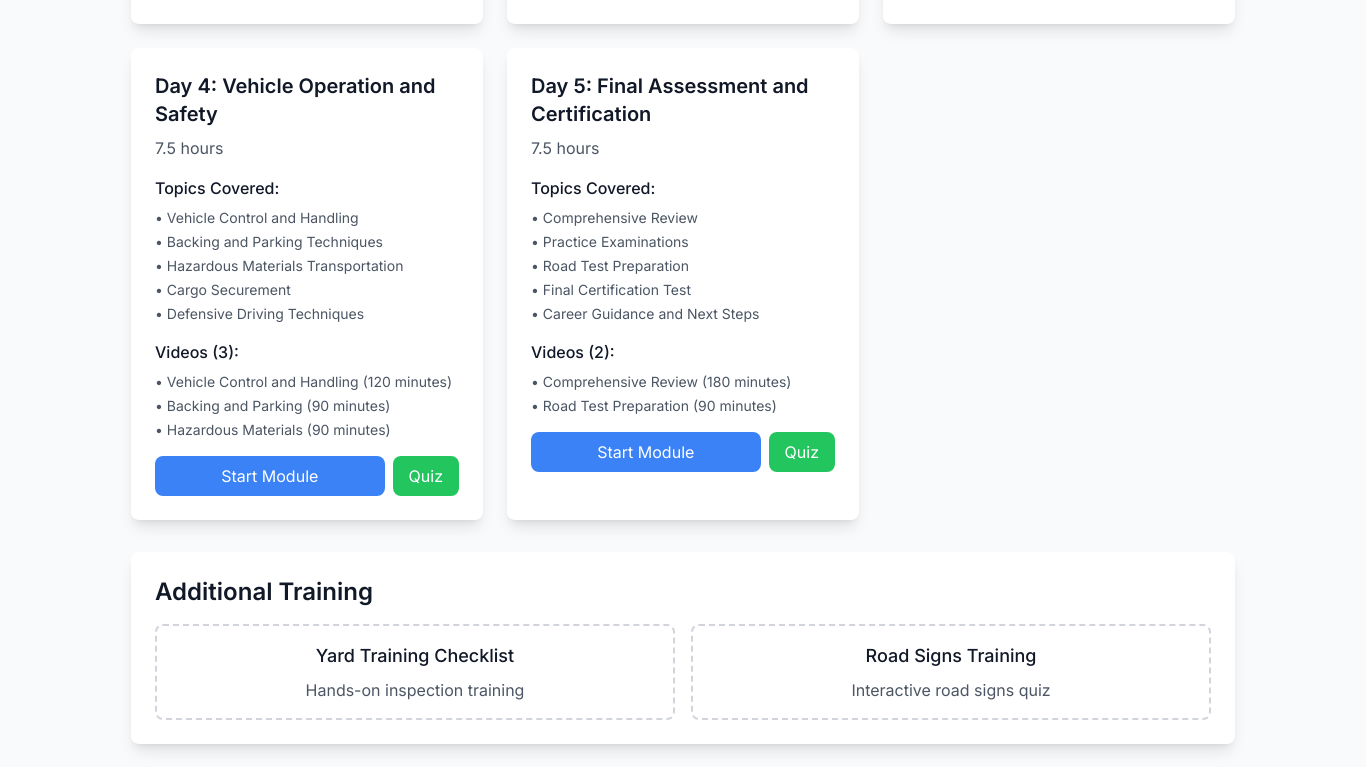
Scenario: CDLTrainingModule › allows navigation back from yard training
(page scrolled)
Click the button "Yard Training Checklist Hands-on inspection training" at (415, 656), box [155,624,675,720]
(page scrolled)
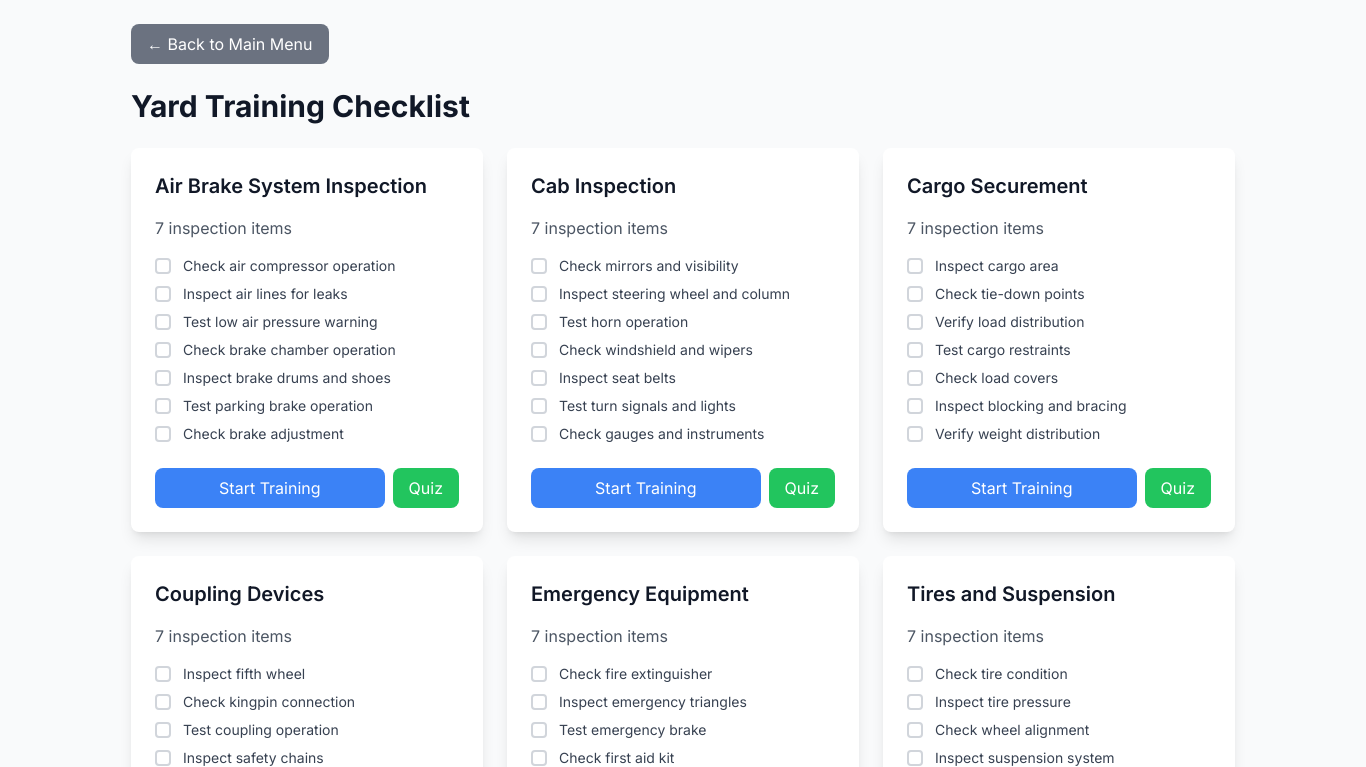
Click the button "← Back to Main Menu" at (230, 44), box [131,24,328,64]
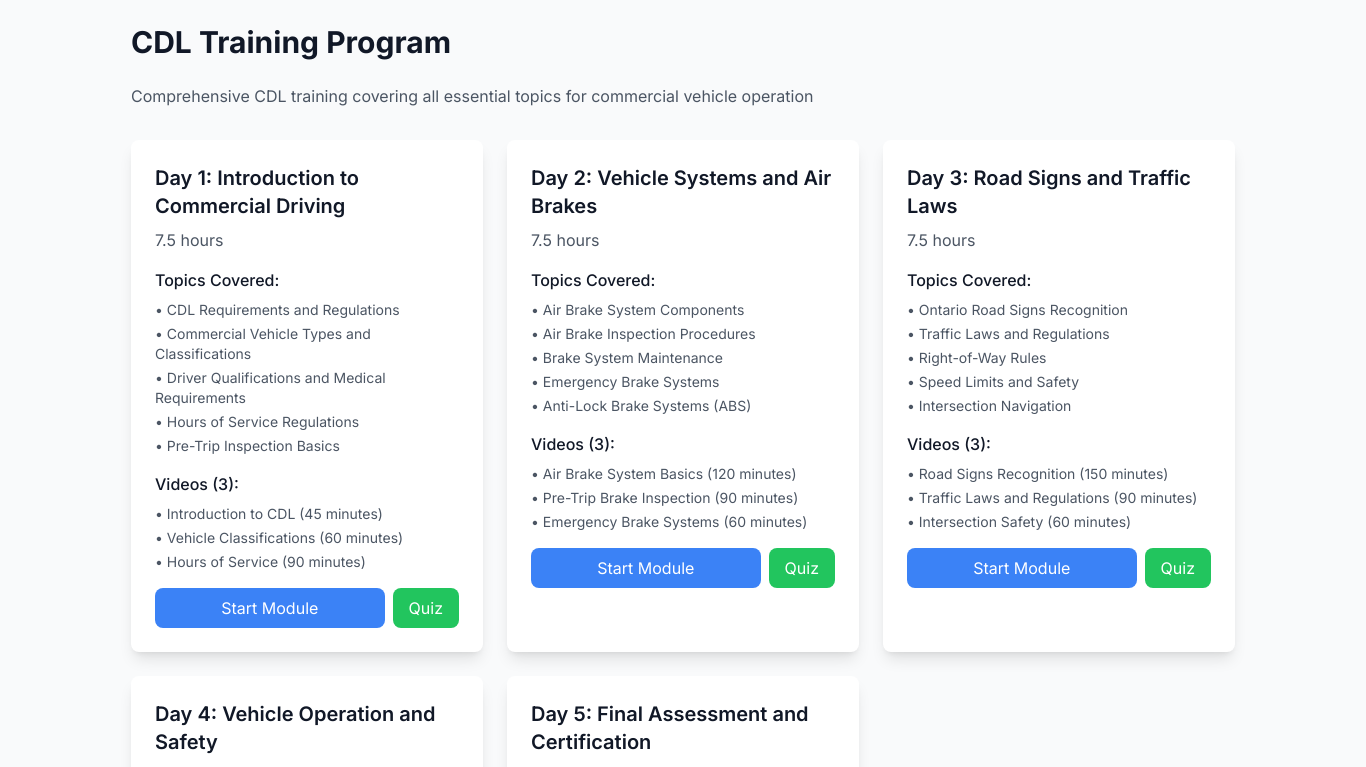
Expected: the heading "CDL Training Program" is shown, [131,24,451,60]
